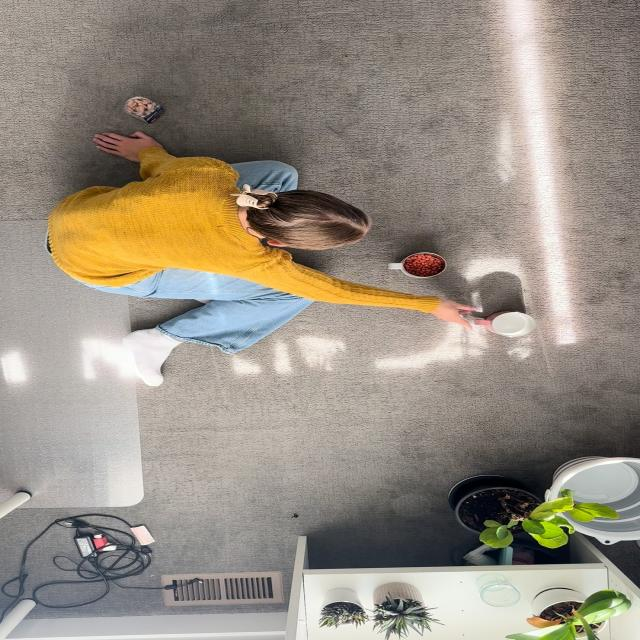IBC: (475, 312, 535, 337), (389, 252, 446, 278)
